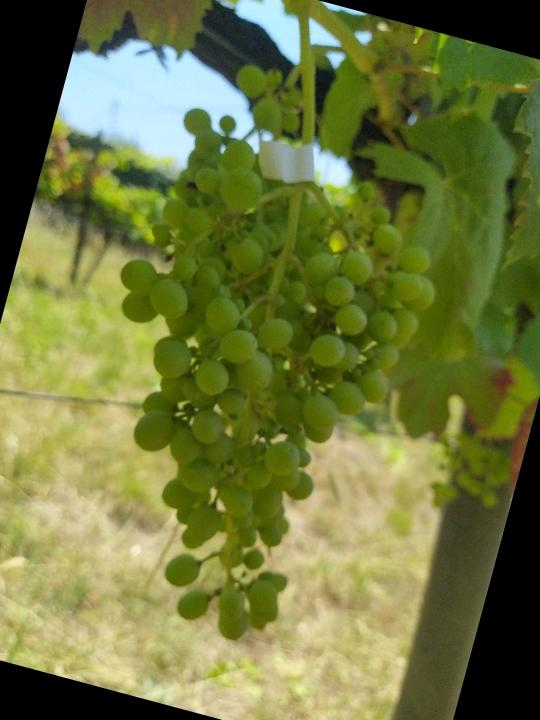grape: (34, 92, 473, 675)
